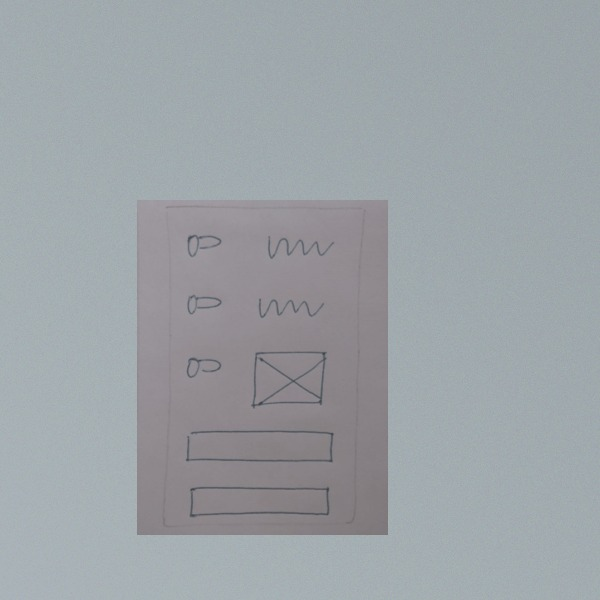image: (247, 346, 330, 412)
switch: (183, 229, 223, 263), (185, 286, 225, 320), (183, 350, 223, 384)
text: (262, 231, 337, 264), (253, 291, 327, 324)
text_input: (183, 427, 337, 469), (185, 483, 334, 519)
